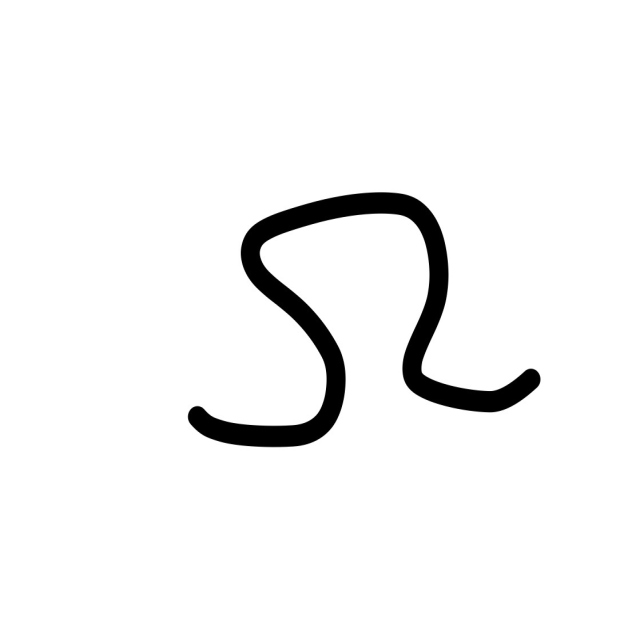ohms: (44, 103, 577, 509)
